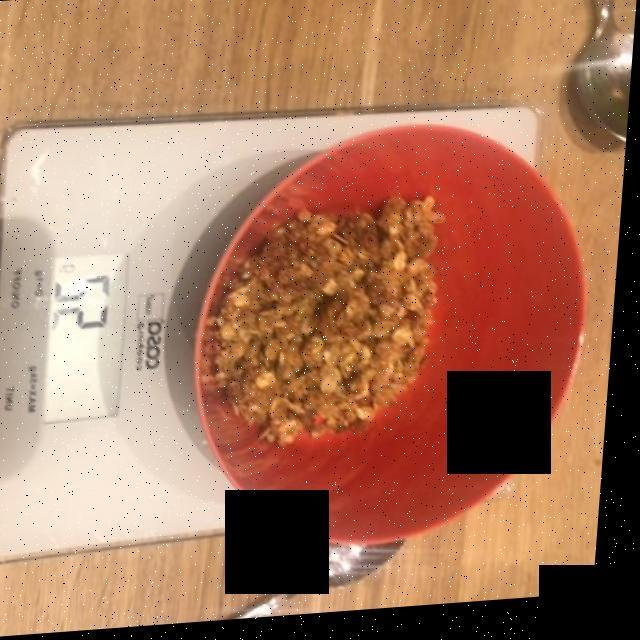crunch-muesli: (214, 206, 451, 455)
